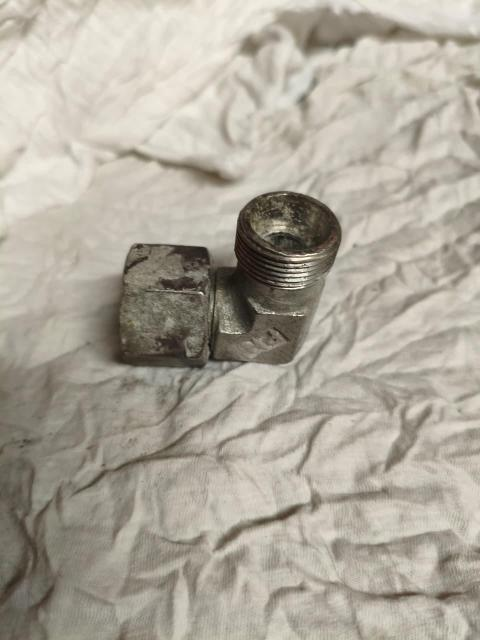Metal: (123, 207, 332, 370), (215, 192, 333, 367), (125, 233, 215, 370)
